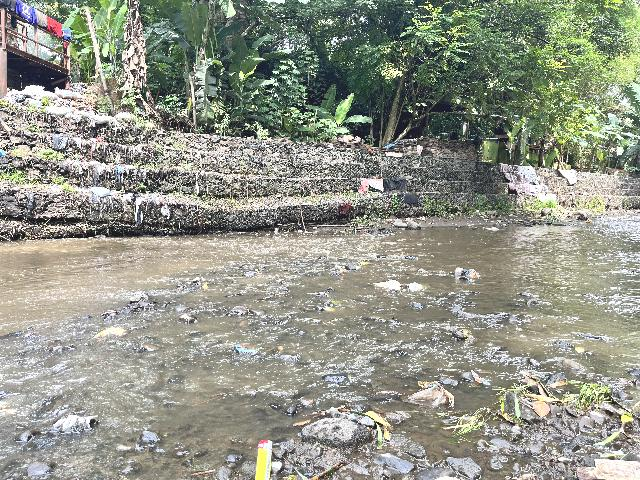Sampah Anorganik: (405, 379, 458, 409), (254, 437, 275, 480), (449, 263, 482, 286), (466, 367, 495, 390), (230, 340, 264, 356), (374, 279, 404, 292), (304, 288, 330, 298), (408, 283, 424, 295), (273, 279, 284, 285), (360, 261, 370, 265)
Sampah Organik: (508, 359, 640, 451), (349, 401, 398, 452), (438, 412, 490, 437), (287, 412, 323, 427), (95, 326, 131, 339), (457, 325, 476, 342), (301, 305, 334, 314), (190, 469, 217, 476), (270, 345, 284, 357), (94, 309, 118, 316), (200, 280, 213, 292), (252, 267, 266, 278), (235, 309, 251, 317), (327, 299, 341, 308), (274, 291, 289, 296), (338, 267, 344, 273)
